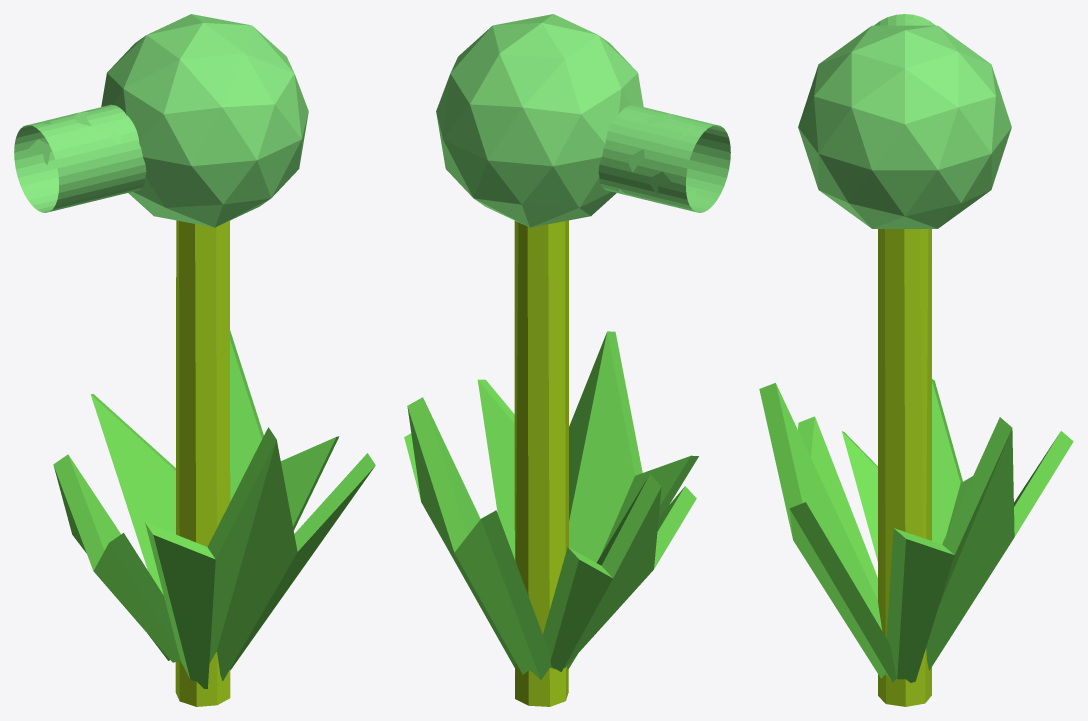
Rendered from BasicPlantModel.fbx.
The picture shows the model from 3 angles, left to right: view 1: azimuth 30°, elevation 25°; view 2: azimuth 150°, elevation 25°; view 3: azimuth 270°, elevation 25°; orthographic projection.
Parts seen in each view (by area): view 1: Head, Leafs, Stem; view 2: Head, Leafs, Stem; view 3: Leafs, Head, Stem.
Boxes of the visible parts, x1=… form: Head: x1=14, y1=14, x2=308, y2=227; Leafs: x1=53, y1=330, x2=375, y2=688; Stem: x1=175, y1=220, x2=230, y2=706; Head: x1=436, y1=14, x2=730, y2=227; Leafs: x1=404, y1=331, x2=698, y2=679; Stem: x1=514, y1=220, x2=568, y2=706; Leafs: x1=759, y1=379, x2=1073, y2=682; Head: x1=798, y1=14, x2=1011, y2=228; Stem: x1=878, y1=229, x2=931, y2=706.
Bounding box in the file's own units: 195 × 412 × 176.
